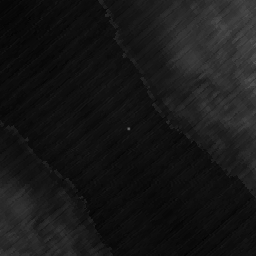Target: (125, 125, 131, 131)
